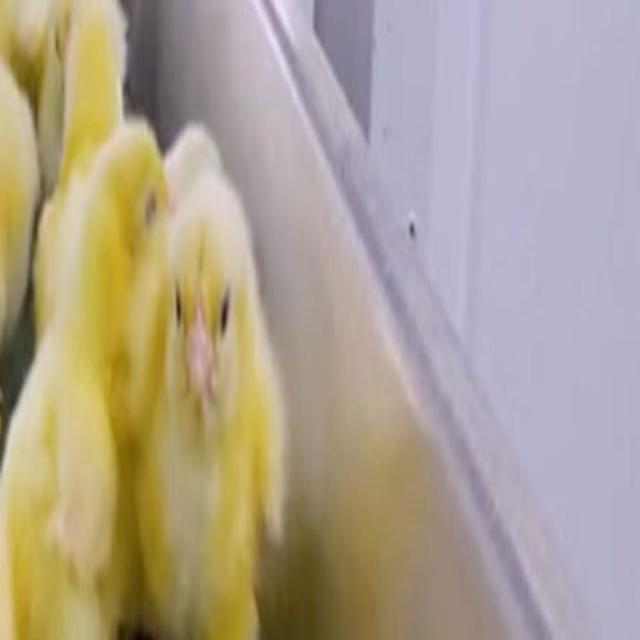chicks: (164, 222, 265, 406), (82, 143, 165, 271), (49, 21, 124, 152), (170, 128, 216, 180), (0, 322, 5, 522)
